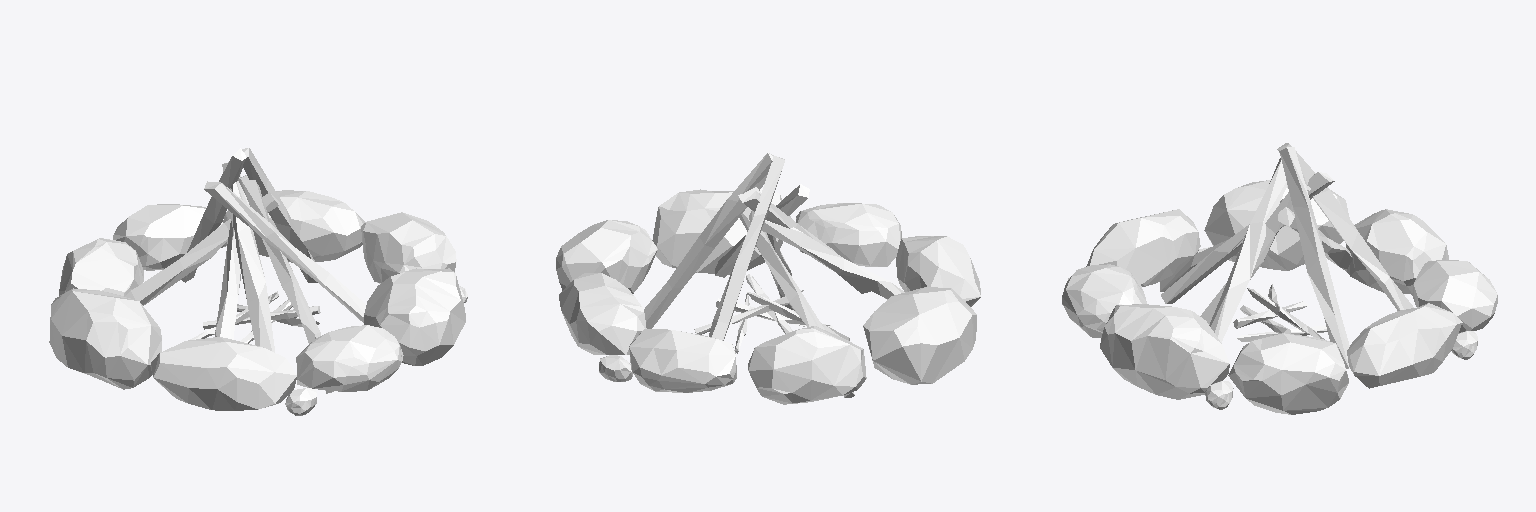
The model's file is bonfire.obj.
The picture shows the model from 3 angles: view 1: azimuth 30°, elevation 25°; view 2: azimuth 150°, elevation 25°; view 3: azimuth 270°, elevation 25°; orthographic projection.
Visible parts, largest first — view 1: obj1; view 2: obj1; view 3: obj1.
Part boxes in pixels (left/top/right/bottom): obj1: left=49, top=148, right=467, bottom=415; obj1: left=556, top=153, right=980, bottom=404; obj1: left=1062, top=143, right=1497, bottom=414.
Bounding box in the file's own units: 1.33 × 0.7051 × 1.3.